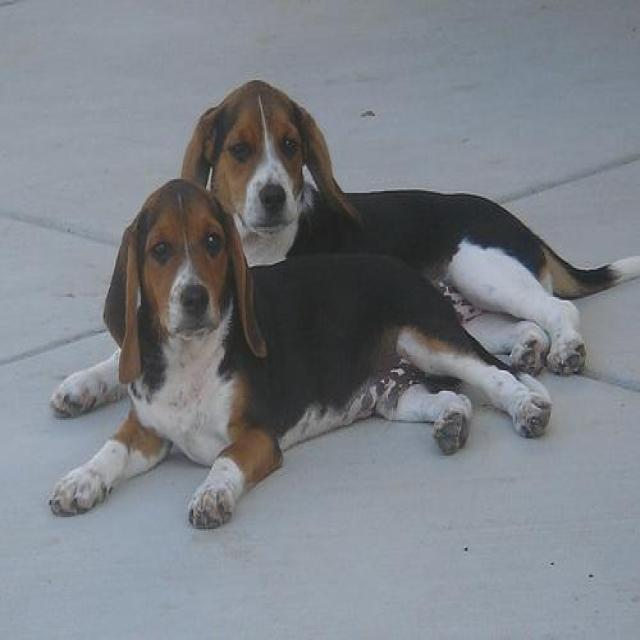beagle: (46, 73, 639, 415), (49, 178, 552, 532)
